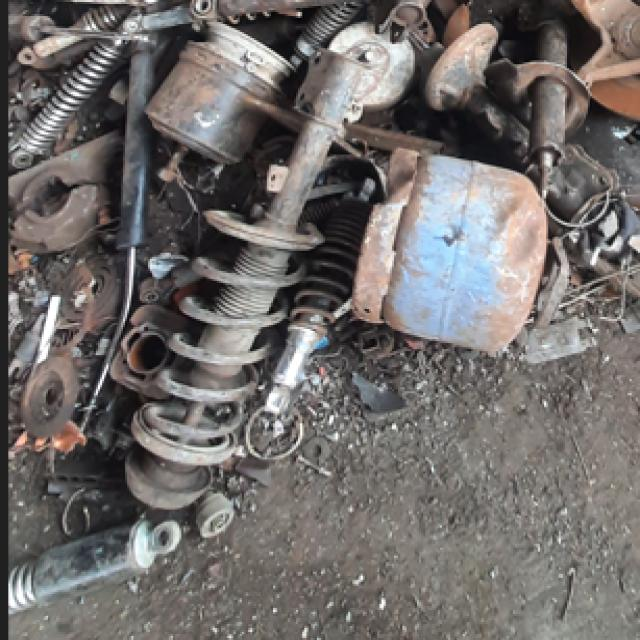cylinder: (354, 146, 549, 353)
shock absorber: (124, 47, 379, 511), (80, 44, 155, 436), (265, 202, 373, 414), (10, 16, 141, 170)
